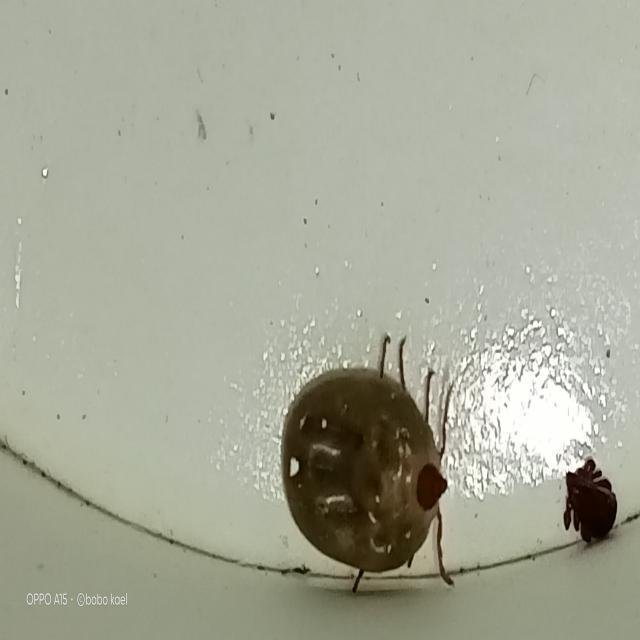Rhipicephalus Sanguineus-F-Fed: (281, 333, 454, 594)
